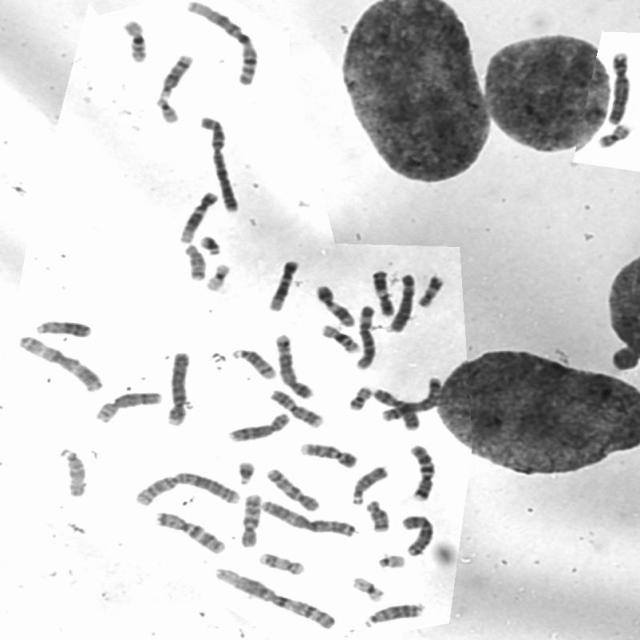A1: (212, 565, 339, 631), (182, 0, 262, 86)
A2: (197, 112, 242, 215), (132, 468, 241, 506)
A3: (13, 330, 106, 393), (256, 496, 358, 538)
B4: (602, 48, 634, 126), (164, 348, 192, 428)
B5: (378, 372, 444, 422), (270, 330, 314, 400)
C10: (263, 464, 324, 513), (236, 490, 264, 549)
C11: (311, 282, 357, 328), (368, 265, 396, 318)
C12: (177, 188, 220, 244), (266, 256, 301, 312)
C6: (385, 269, 418, 334), (352, 302, 377, 371)
C7: (150, 508, 227, 555), (406, 441, 437, 503)
C8: (93, 388, 165, 424), (225, 409, 292, 443)
C9: (266, 387, 325, 429), (297, 439, 360, 470)
D13: (361, 598, 426, 627), (32, 316, 92, 339)
D14: (156, 51, 196, 98), (227, 346, 278, 380)
D15: (347, 462, 390, 506), (55, 445, 89, 499)
E16: (119, 16, 149, 63), (318, 322, 360, 354)
E17: (255, 549, 307, 576), (415, 271, 446, 308)
E18: (181, 241, 208, 282), (362, 496, 391, 532)
F19: (348, 574, 386, 604), (202, 259, 233, 292)
F20: (594, 119, 635, 149), (345, 382, 375, 412)
G21: (234, 458, 258, 486), (196, 232, 224, 256)
G22: (152, 95, 180, 125), (374, 550, 408, 569)
X: (369, 384, 422, 431), (397, 512, 436, 556)
